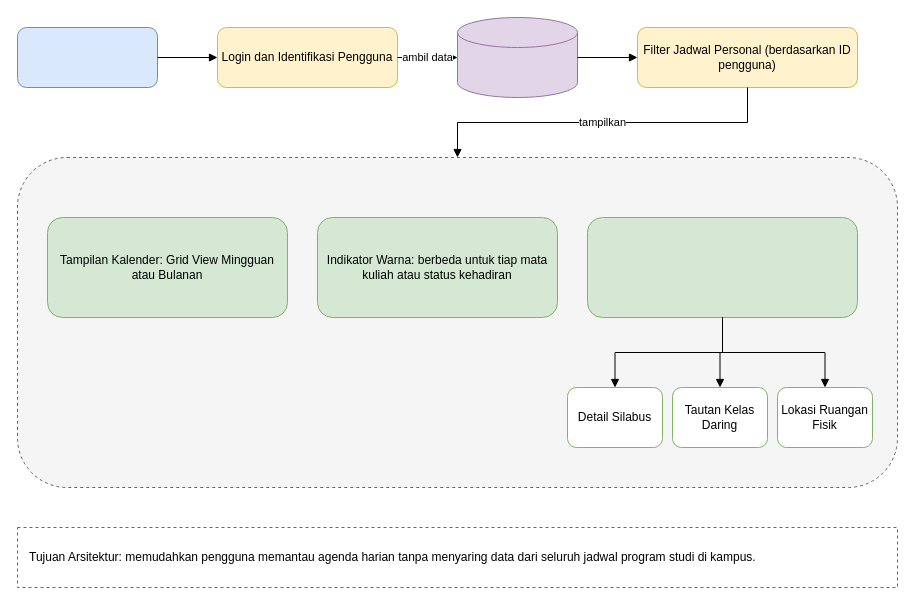
Image size: 915x605. Some labels were removed from this diagram. The box of each missing label's shape, as (x1, y1, x2, y2) in pixels:
Database Jadwal Akademik: (456, 16, 578, 98)
Pengguna (Mahasiswa / Dosen): (16, 26, 158, 88)
Personal Schedule Dashboard: (16, 156, 898, 488)
Tombol Pintas: (586, 216, 858, 318)
